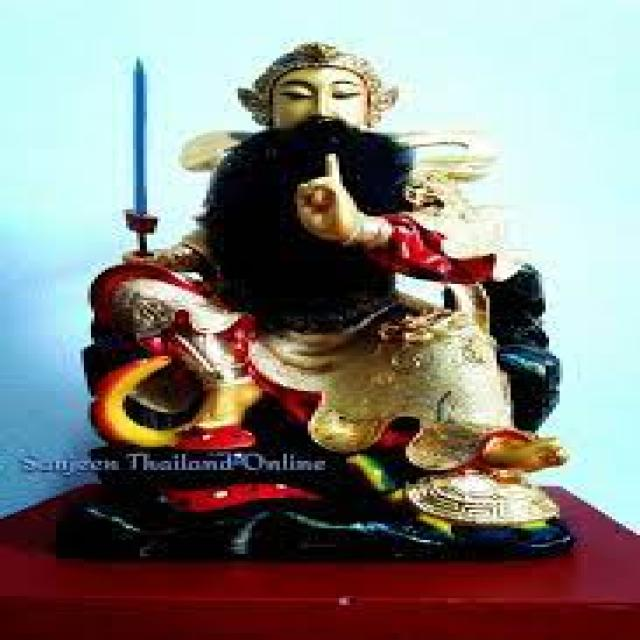Xuan wu: (109, 40, 534, 437)
